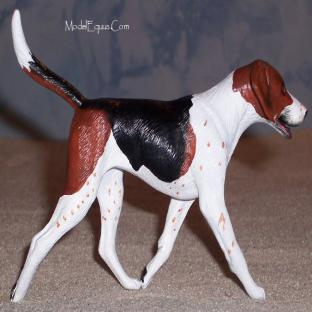Animal: (12, 10, 307, 302)
